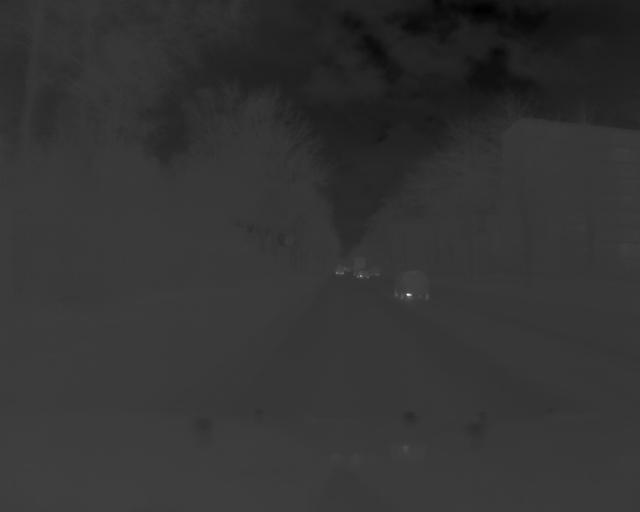car: (393, 268, 432, 304), (352, 255, 371, 282)
